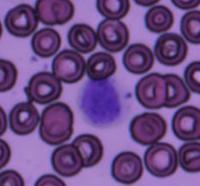L: (78, 78, 128, 127)
